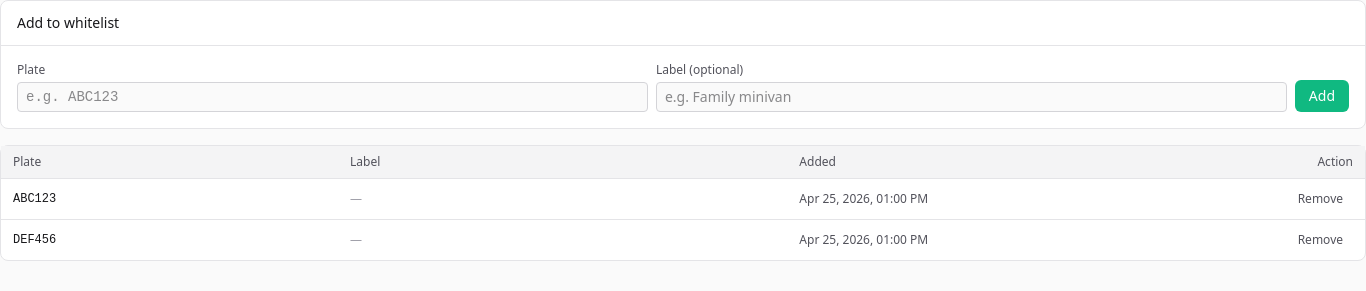
WhitelistTab: remove › optimistically removes a row on click
Expected: the list item with test id "whitelist-row-h-1" is shown, [1,179,1365,220]
Click the button with test id "whitelist-remove-h-1" at (1320, 199), box [1288,187,1353,211]
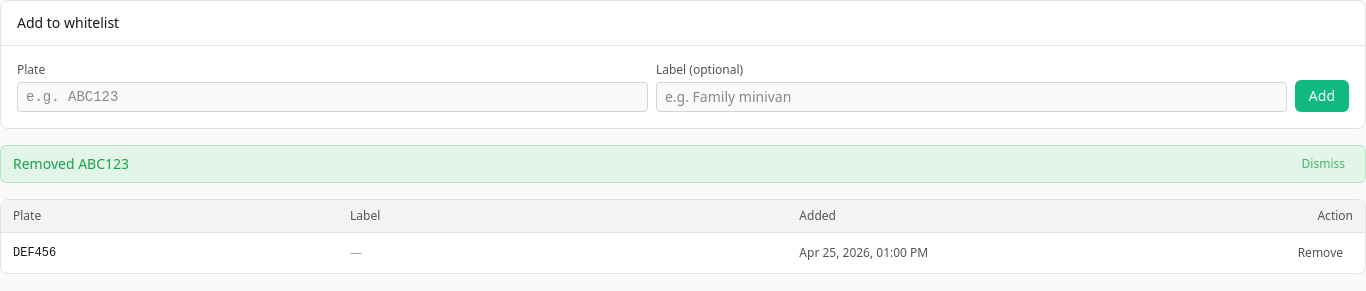
Expected: the list item with test id "whitelist-row-h-2" is shown, [1,233,1365,273]
Expected: the list item with test id "whitelist-row-h-1" is gone
